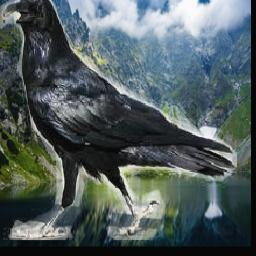Crow: (0, 0, 238, 240)
